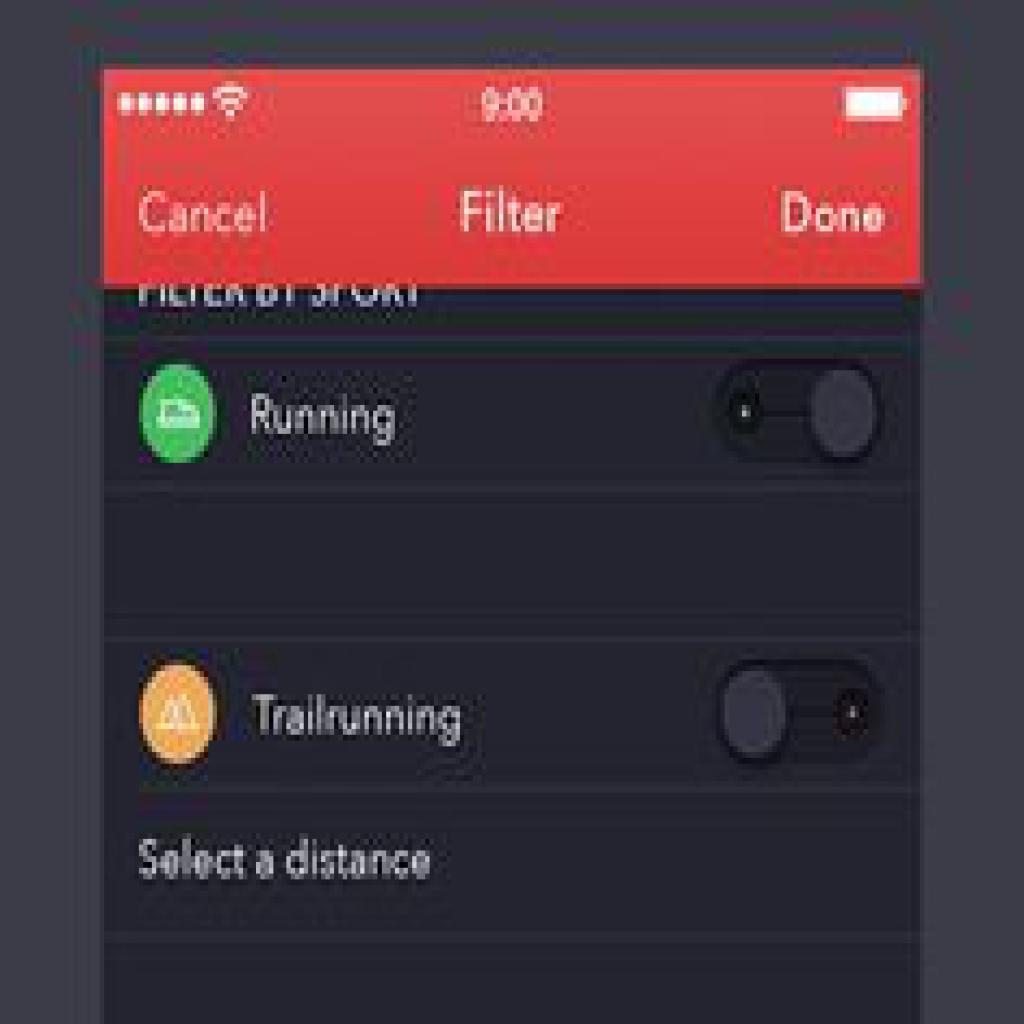icon: (140, 364, 219, 465), (144, 664, 219, 767)
label: (242, 690, 476, 754), (248, 388, 407, 453), (770, 178, 897, 243), (127, 191, 273, 242), (458, 184, 572, 241)
switch: (715, 356, 885, 474), (715, 660, 887, 773)
